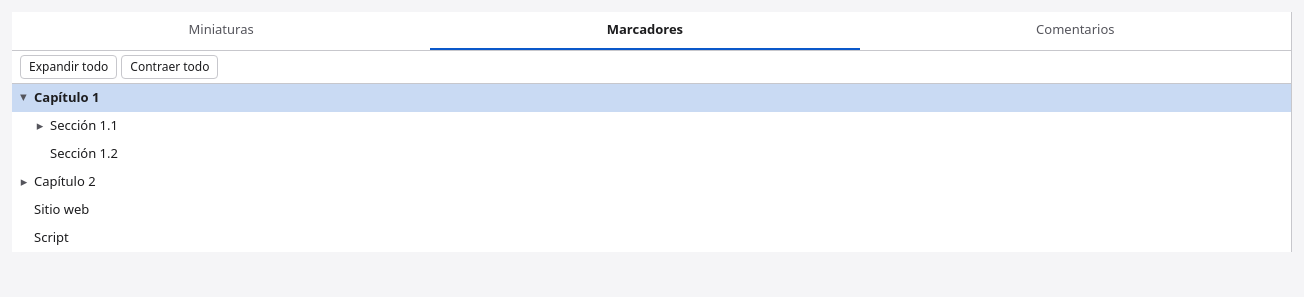
Scenario: Marcadores · activar › un clic en el chevrón despliega sin activar el marcador
What coordinates should you click on to do the following:
click the text "▸" next to "Capítulo 2"
I would click on:
 (24, 181)
Its box is [21, 172, 27, 190].
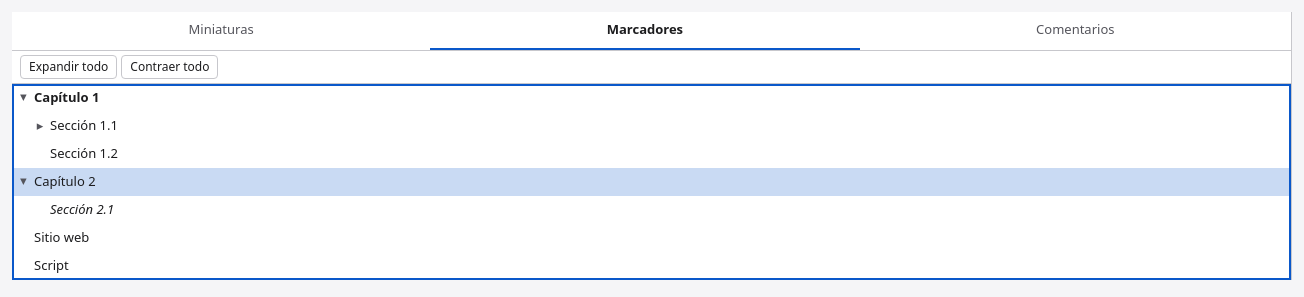
Result: the list item "Capítulo 2" is expanded at [12, 168, 1291, 196]
